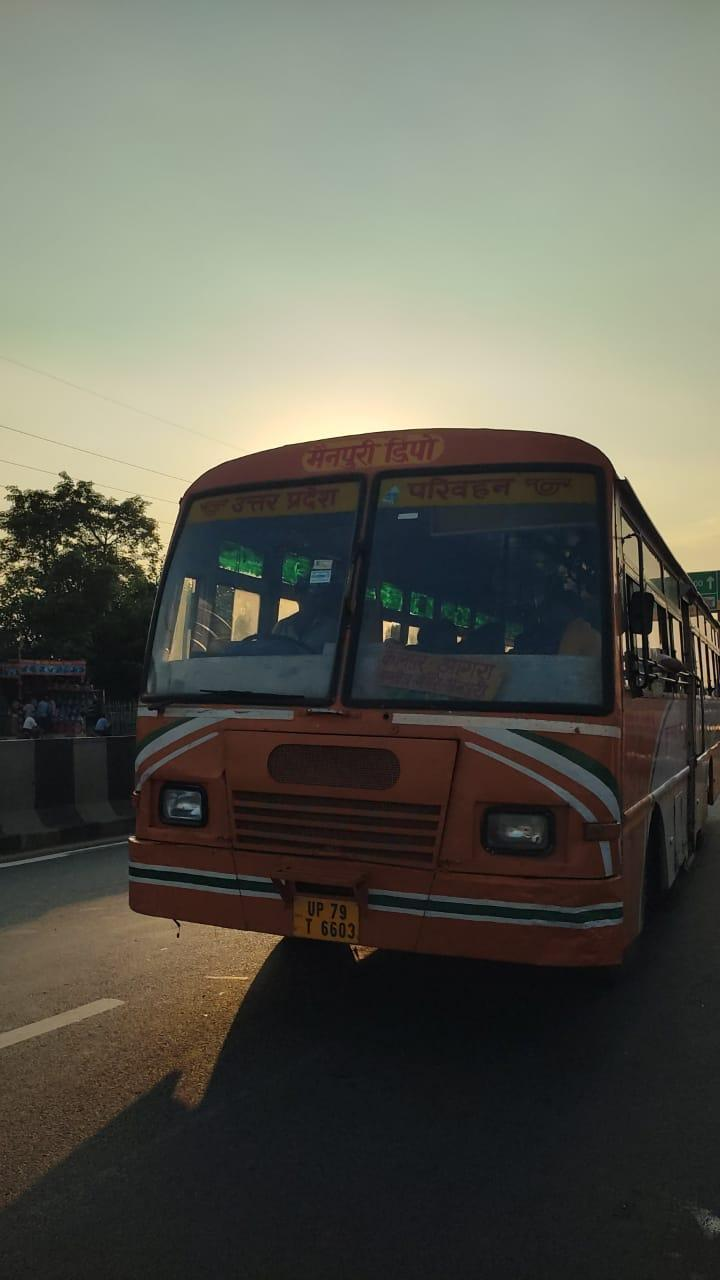Bus: (127, 429, 720, 976)
